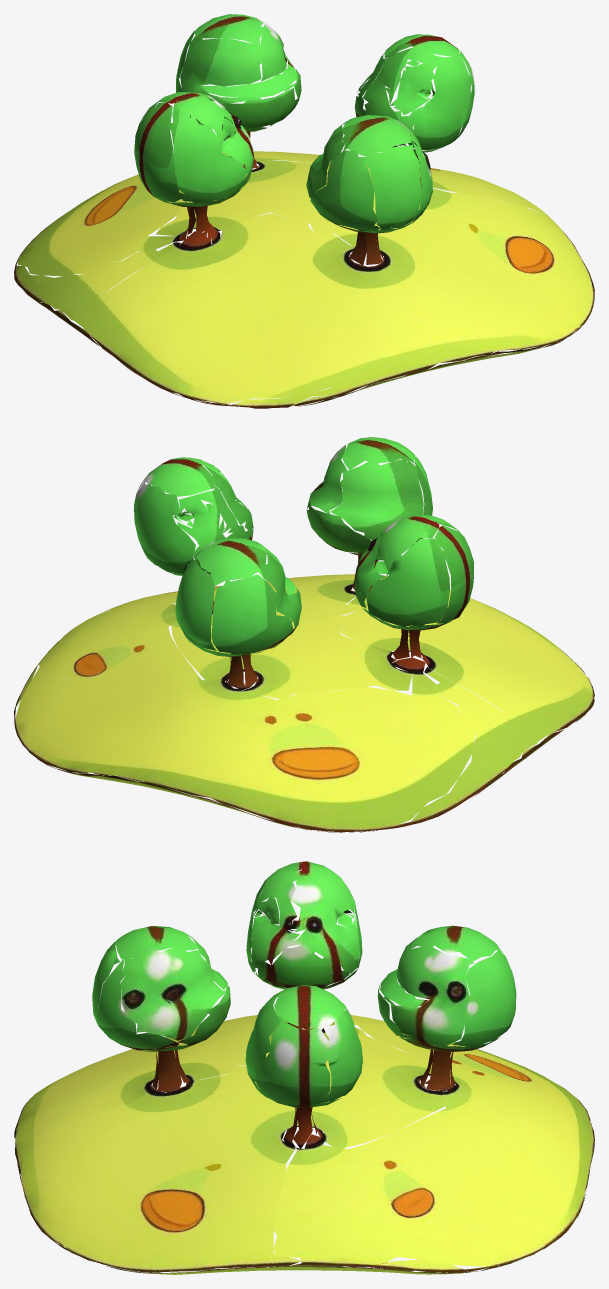
Rendered from koy_tepe.glb.
The picture shows the model from 3 angles, top to bottom: view 1: azimuth 30°, elevation 25°; view 2: azimuth 150°, elevation 25°; view 3: azimuth 270°, elevation 25°; orthographic projection. The views are drawn at different scales.
Parts seen in each view (by area): view 1: geometry_0; view 2: geometry_0; view 3: geometry_0.
Part boxes in pixels (x1,y1,x2,y2): geometry_0: (14,14,594,408); geometry_0: (14,437,594,832); geometry_0: (14,861,594,1274).
Bounding box in the file's own units: 1 × 0.4564 × 0.9991.
1 material, 1 textured.
